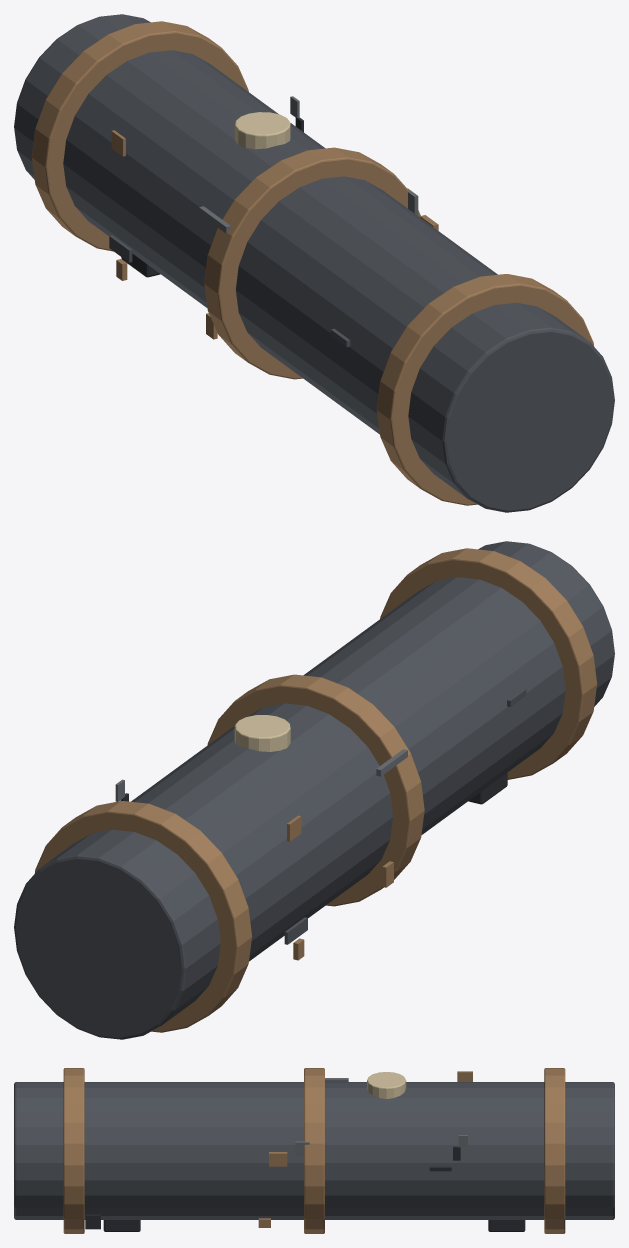
File: prop_pipe_segment.fbx
3 views of the same model, one above another, from view 1: azimuth 30°, elevation 25°; view 2: azimuth 150°, elevation 25°; view 3: azimuth 270°, elevation 25° (orthographic). The views are drawn at different scales.
Visible parts, largest first — view 1: SM_Prop_PipeSegment; view 2: SM_Prop_PipeSegment; view 3: SM_Prop_PipeSegment.
Part boxes in pixels (x1,y1,x2,y2): SM_Prop_PipeSegment: [14, 14, 614, 512]; SM_Prop_PipeSegment: [14, 541, 614, 1039]; SM_Prop_PipeSegment: [14, 1068, 614, 1233].
Size of what is drawn, in the model's own units: 72 by 72 by 260.
